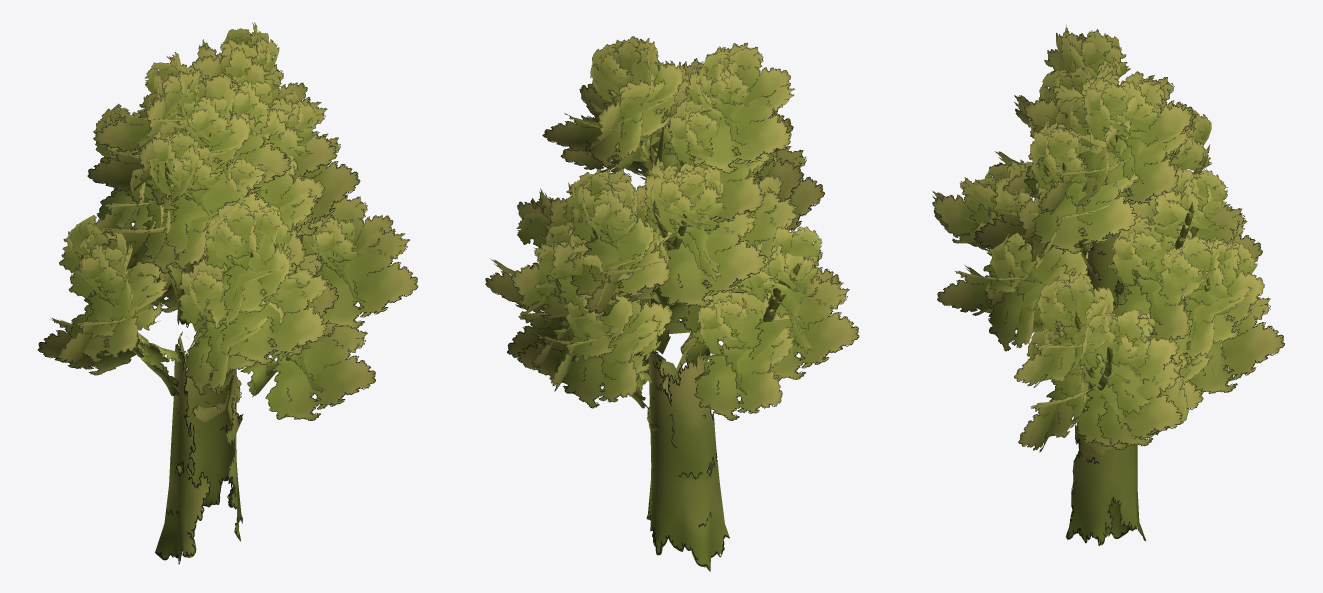
Rendered from tree_a.fbx.
3 renders of one model, left to right at view 1: azimuth 30°, elevation 25°; view 2: azimuth 150°, elevation 25°; view 3: azimuth 270°, elevation 25°, orthographic.
Visible parts, largest first — view 1: tree_a; view 2: tree_a; view 3: tree_a.
Boxes of the visible parts, <box> form: tree_a: <box>37,22,418,564</box>; tree_a: <box>485,36,859,571</box>; tree_a: <box>932,25,1284,545</box>.
Size of the model in its own units: 491 by 657 by 450.
